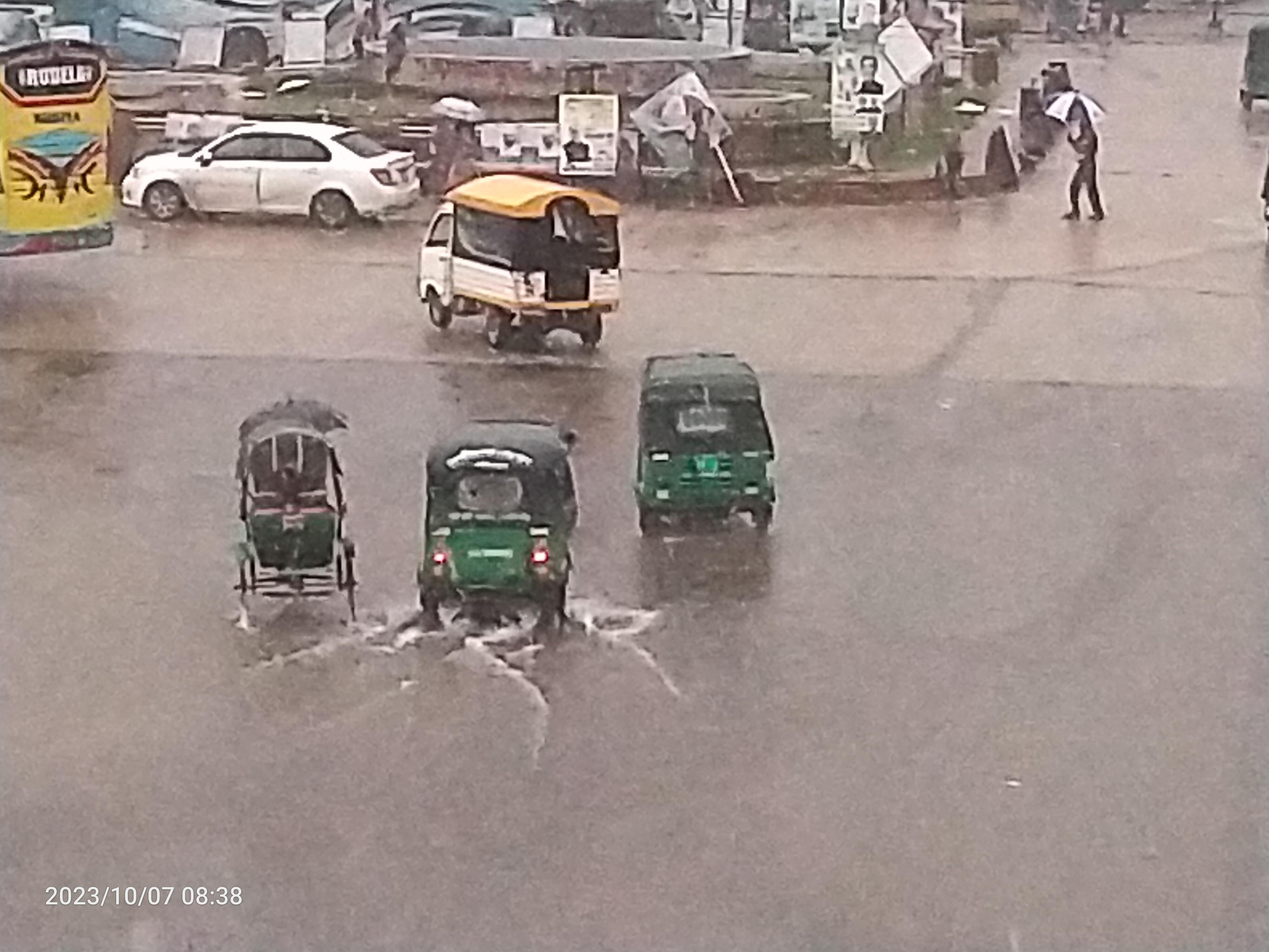Bus: (0, 21, 149, 291)
Car: (190, 358, 391, 663), (391, 160, 651, 382), (92, 92, 438, 249)
